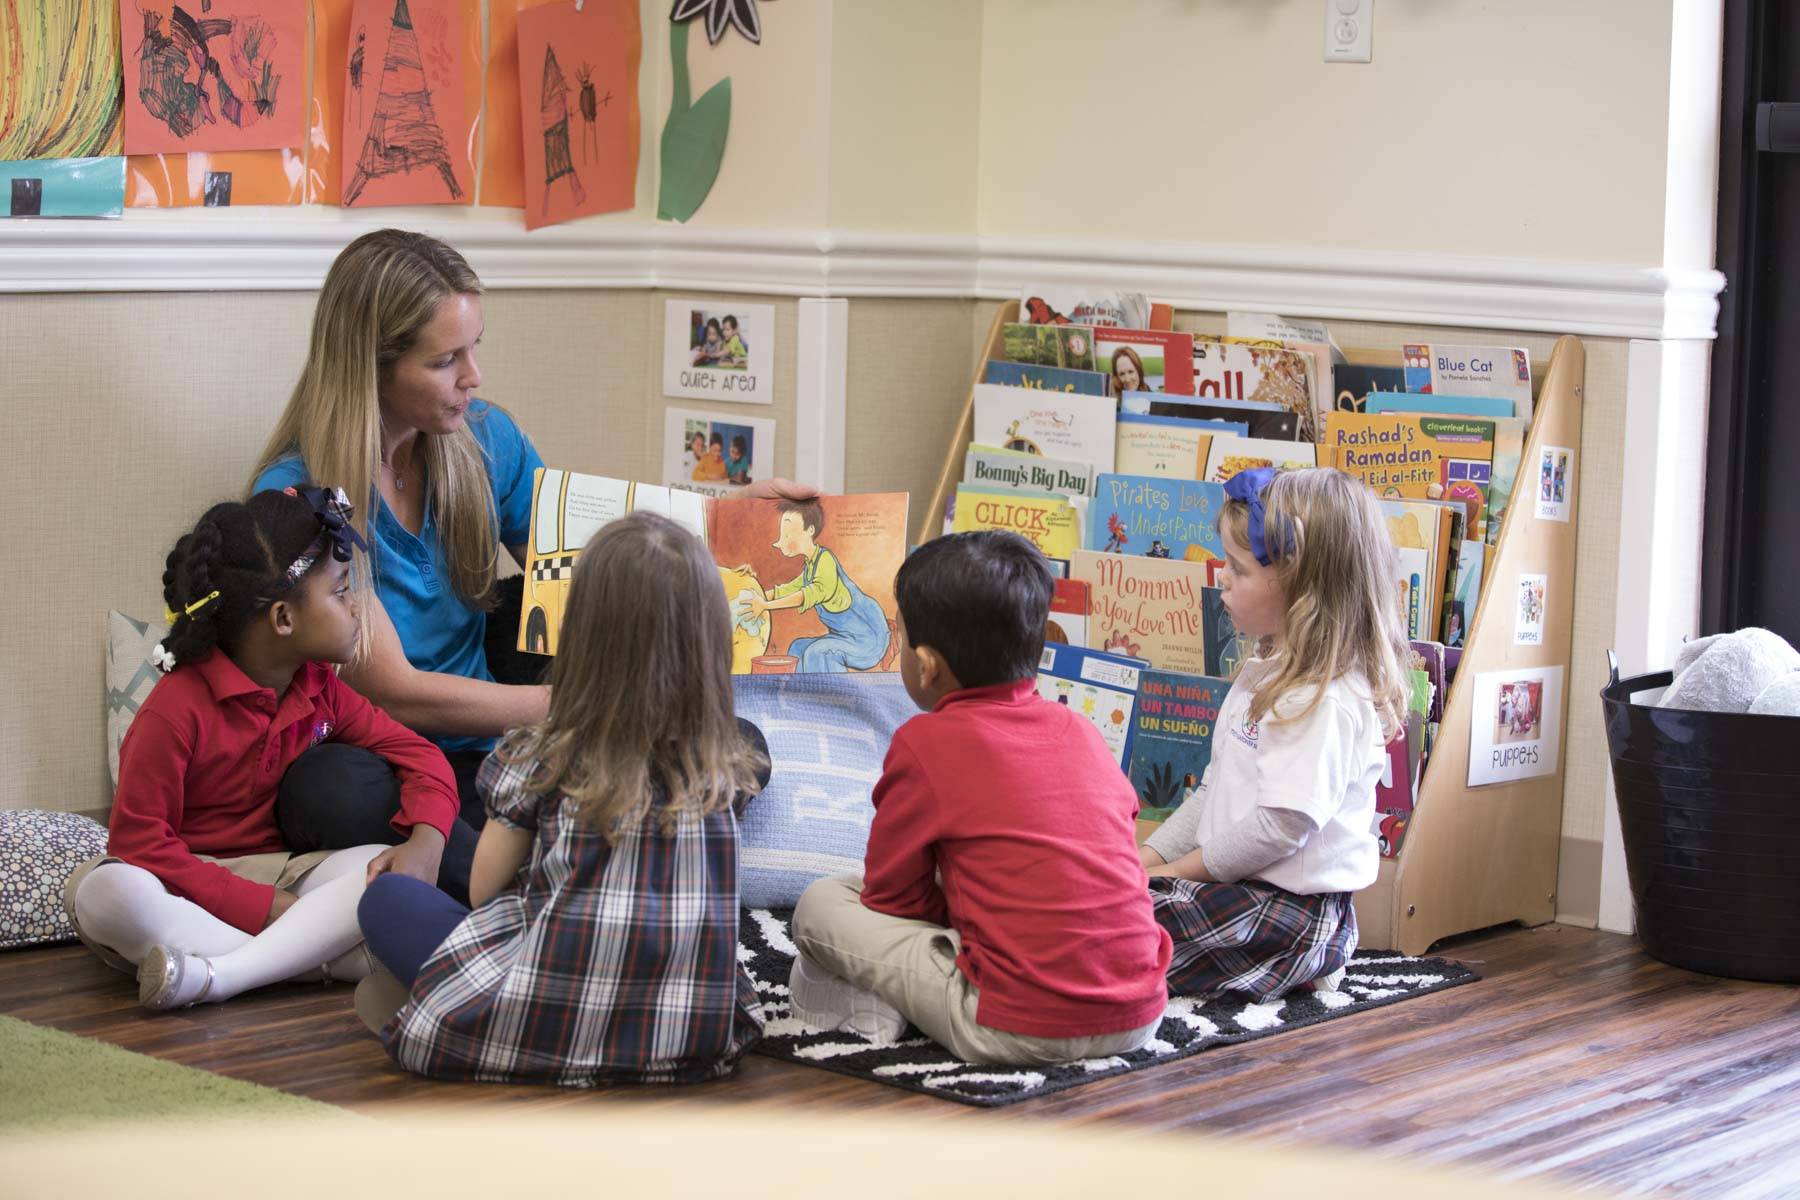Person: (352, 490, 772, 1099), (785, 519, 1198, 1080), (230, 225, 594, 858), (78, 487, 446, 1025), (1149, 458, 1440, 1022)
